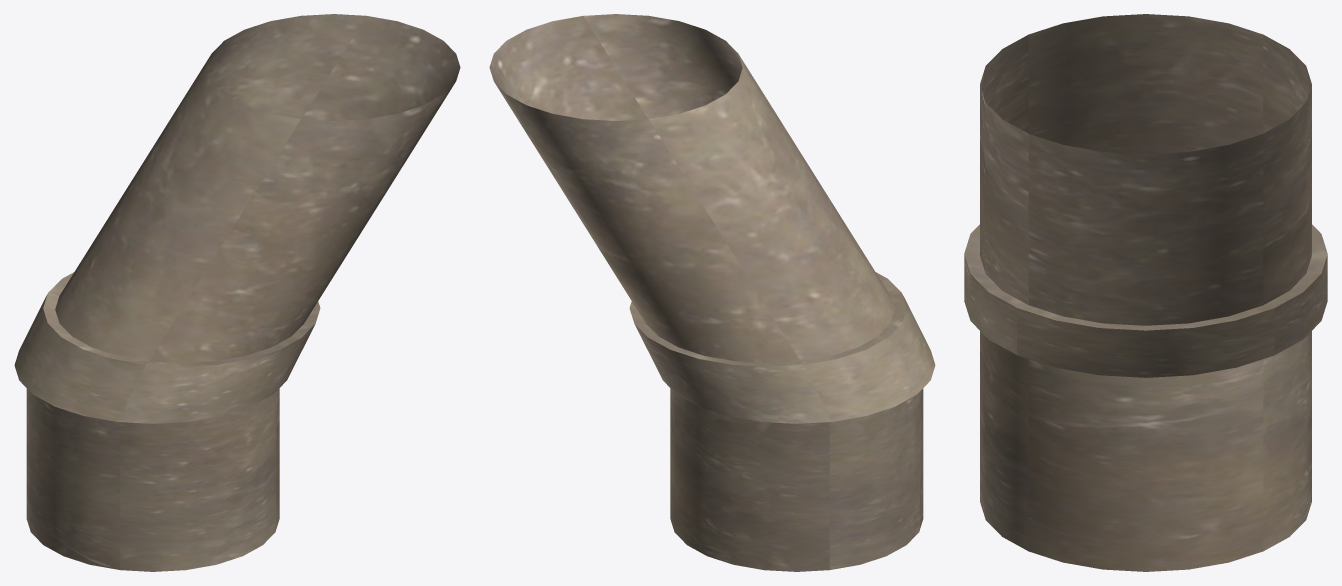
File: Pipe01_05.fbx
3 renders of one model, left to right at view 1: azimuth 30°, elevation 25°; view 2: azimuth 150°, elevation 25°; view 3: azimuth 270°, elevation 25°, orthographic. The views are drawn at different scales.
Parts seen in each view (by area): view 1: Cylinder (42); view 2: Cylinder (42); view 3: Cylinder (42).
Boxes of the visible parts, x1,y1,x2,y2 form: Cylinder (42): (14, 14, 460, 571); Cylinder (42): (489, 14, 935, 571); Cylinder (42): (964, 14, 1327, 571).
Size of the model in its own units: 47.24 by 44.74 by 27.64.
